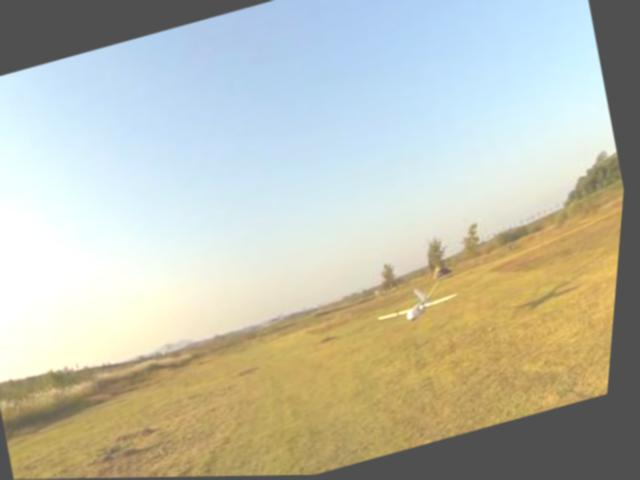uav: (365, 260, 479, 348)
